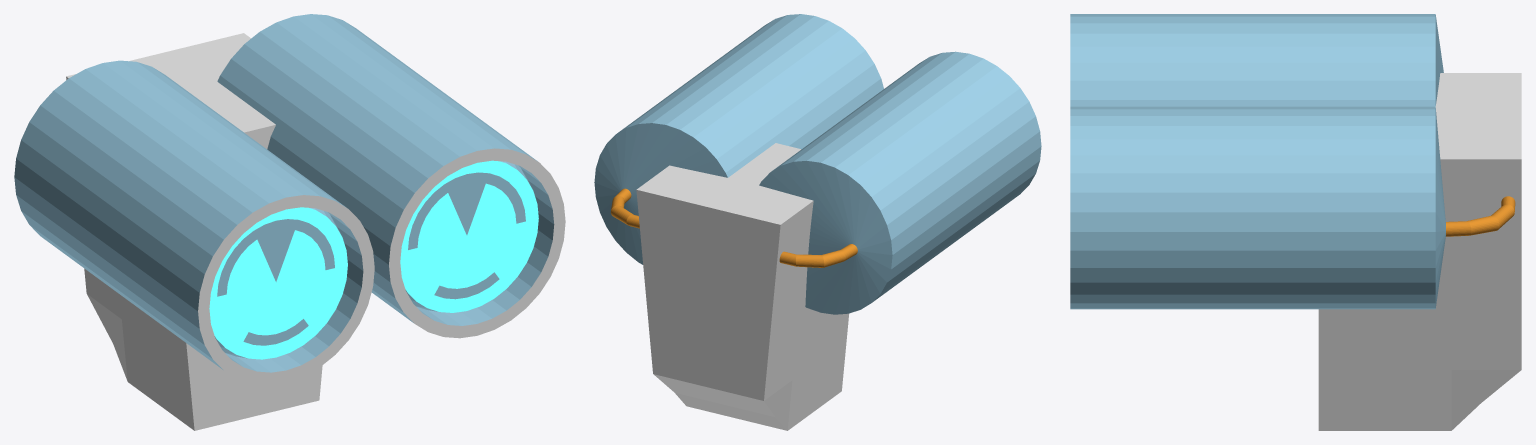
Rendered from eyes2.glb.
3 renders of one model, left to right at view 1: azimuth 30°, elevation 25°; view 2: azimuth 150°, elevation 25°; view 3: azimuth 270°, elevation 25°, orthographic. The views are drawn at different scales.
Visible parts, largest first — view 1: eyes2; view 2: eyes2; view 3: eyes2.
Part boxes in pixels (box(x1,y1,x2,y2)): eyes2: box(14, 14, 565, 430); eyes2: box(594, 14, 1041, 430); eyes2: box(1070, 14, 1521, 430).
Size of the model in its own units: 0.9778 by 0.8463 by 1.05.
